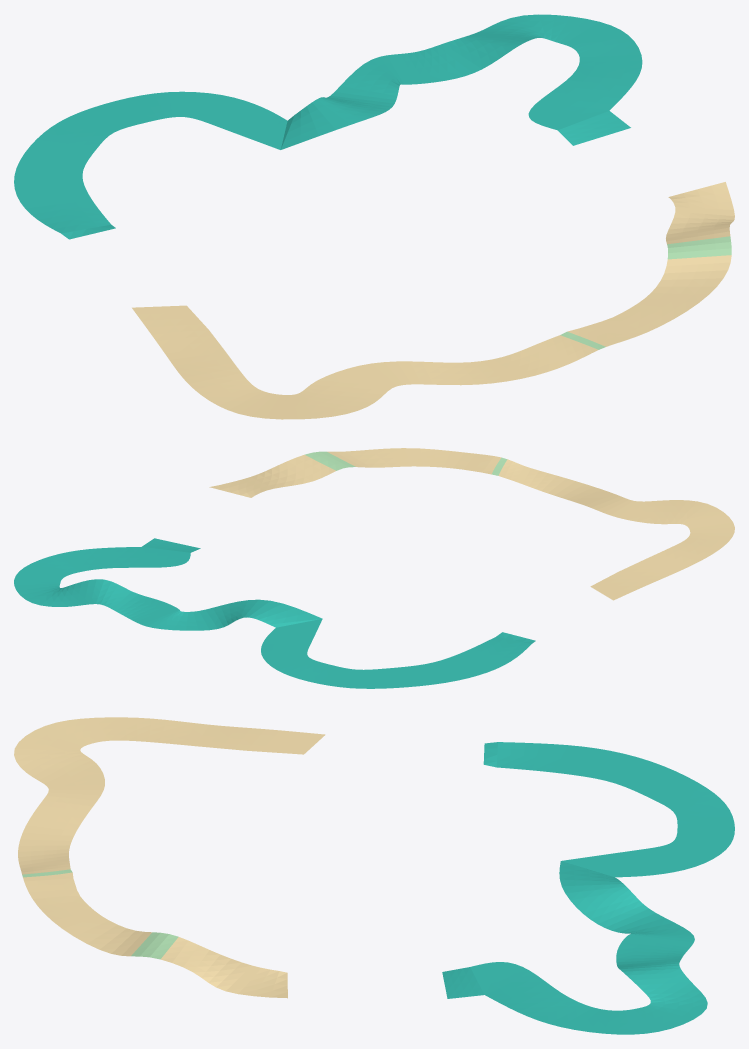
Rendered from dogtalk minimap.dae.
3 views of the same model, one above another, from view 1: azimuth 30°, elevation 25°; view 2: azimuth 150°, elevation 25°; view 3: azimuth 270°, elevation 25° (orthographic). The views are drawn at different scales.
Visible parts, largest first — view 1: _00_F0040, _00_F0000, _00_F2000; view 2: _00_F0040, _00_F0000, _00_F2000; view 3: _00_F0040, _00_F0000, _00_F2000.
Boxes of the visible parts, x1=… form: _00_F0040: x1=14, y1=14, x2=642, y2=239; _00_F0000: x1=132, y1=182, x2=734, y2=419; _00_F2000: x1=560, y1=236, x2=731, y2=349; _00_F0040: x1=14, y1=538, x2=535, y2=688; _00_F0000: x1=209, y1=448, x2=734, y2=600; _00_F2000: x1=305, y1=451, x2=507, y2=475; _00_F0040: x1=442, y1=742, x2=734, y2=1034; _00_F0000: x1=14, y1=717, x2=325, y2=998; _00_F2000: x1=22, y1=869, x2=178, y2=959.
Bounding box in the file's own units: 47965 × 46078 × 1307.
